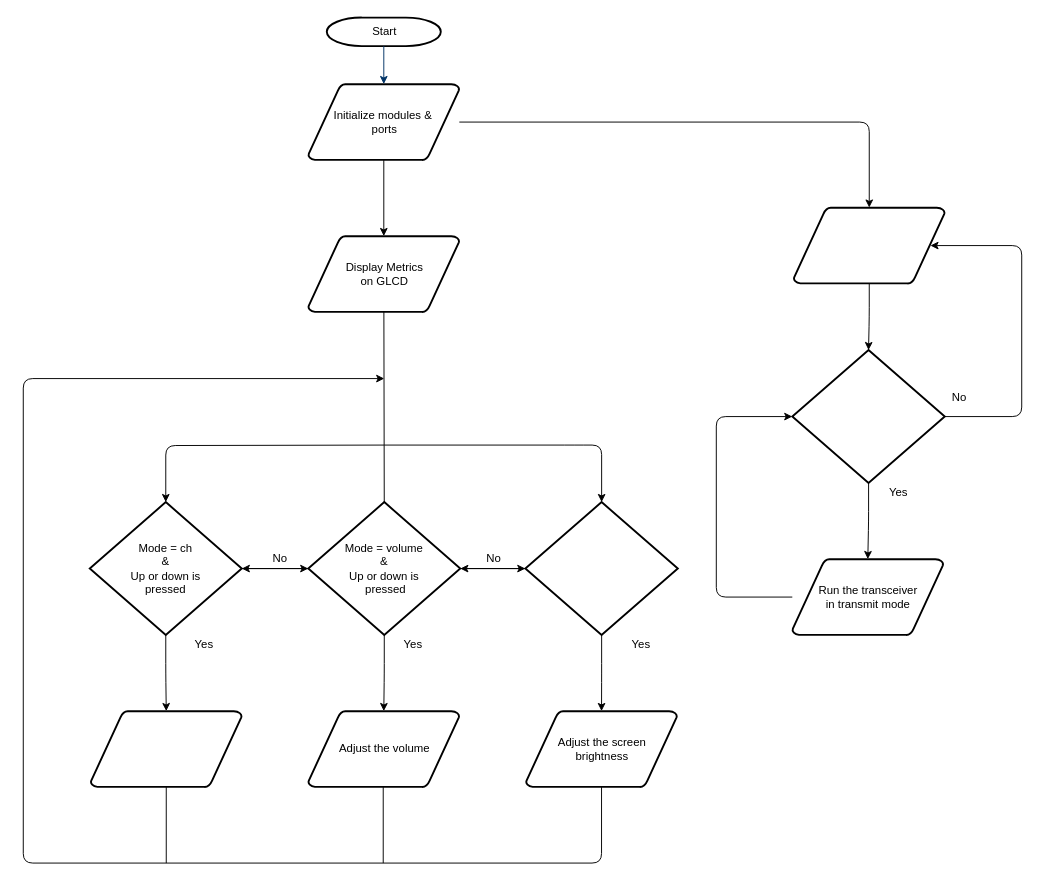
This 1046x887 diagram has some shape labels left out. Here are the shapes that lost their labels. From the top down, the centre of each, then its label:
At (x=868, y=245): "Run the transceiver in receive mode".
At (x=868, y=416): "Is the transmit button being pressed".
At (x=601, y=568): "Mode = brightness & Up or down is pressed".
At (x=165, y=749): "Change the selected channel".
